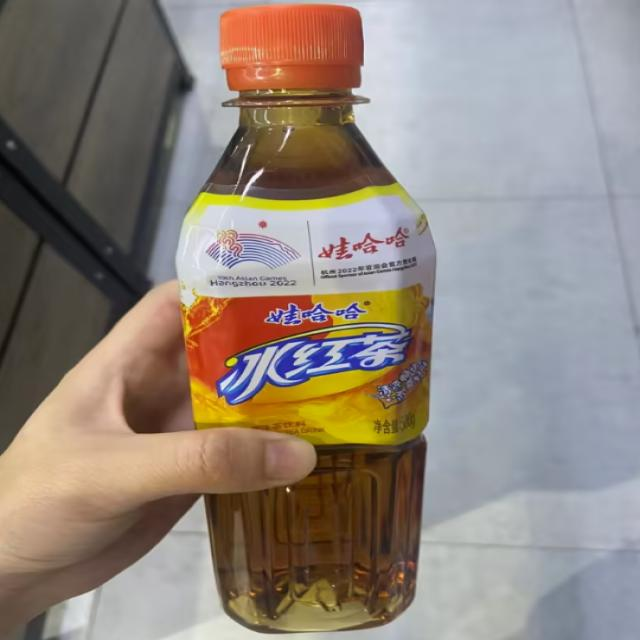bottle: (172, 4, 438, 636)
